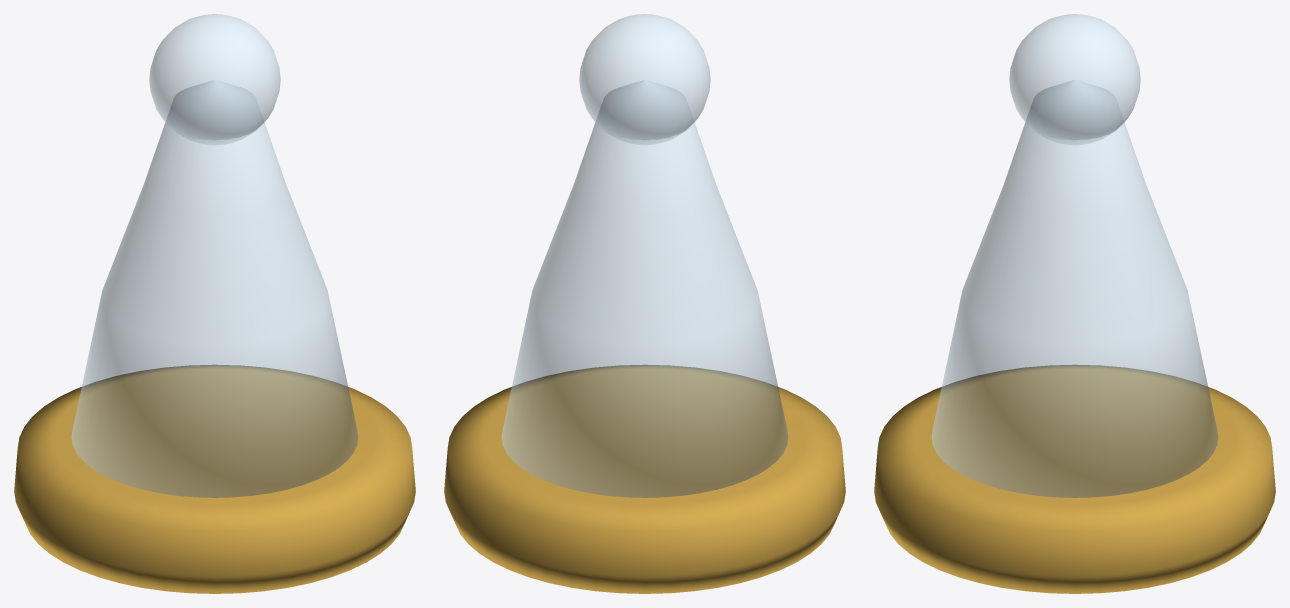
The model's file is roul_dolly.glb.
3 views of the same model, side by side, from view 1: azimuth 30°, elevation 25°; view 2: azimuth 150°, elevation 25°; view 3: azimuth 270°, elevation 25° (orthographic).
Parts seen in each view (by area): view 1: DollyTop, DollyBase, DollyCap; view 2: DollyTop, DollyBase, DollyCap; view 3: DollyTop, DollyBase, DollyCap.
Part boxes in pixels (x1,y1,x2,y2): DollyTop: [71, 80, 358, 497]; DollyBase: [14, 364, 415, 593]; DollyCap: [149, 14, 280, 144]; DollyTop: [501, 80, 788, 497]; DollyBase: [444, 364, 845, 593]; DollyCap: [579, 14, 710, 144]; DollyTop: [931, 80, 1218, 497]; DollyBase: [874, 364, 1275, 593]; DollyCap: [1009, 14, 1140, 144].
Bounding box in the file's own units: 0.0336 × 0.0455 × 0.0336.
